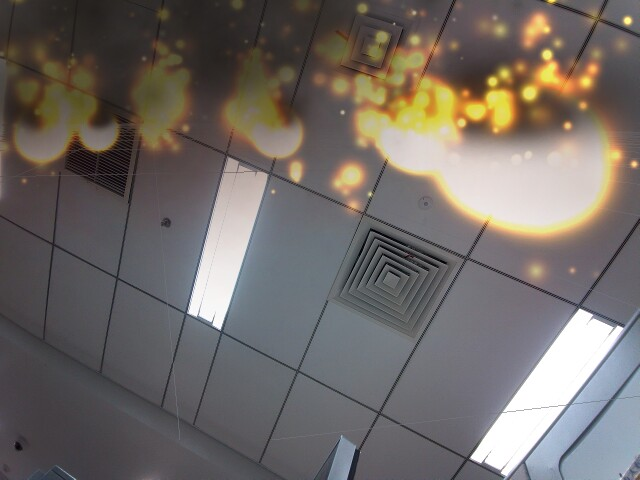fire: (432, 67, 617, 239), (377, 111, 453, 173), (15, 110, 72, 167), (253, 104, 303, 160), (78, 111, 120, 152)
